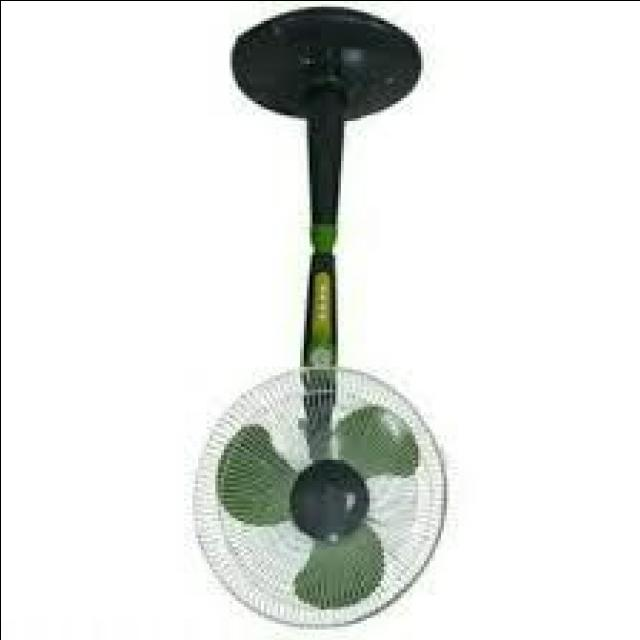fan: (190, 4, 438, 628)
